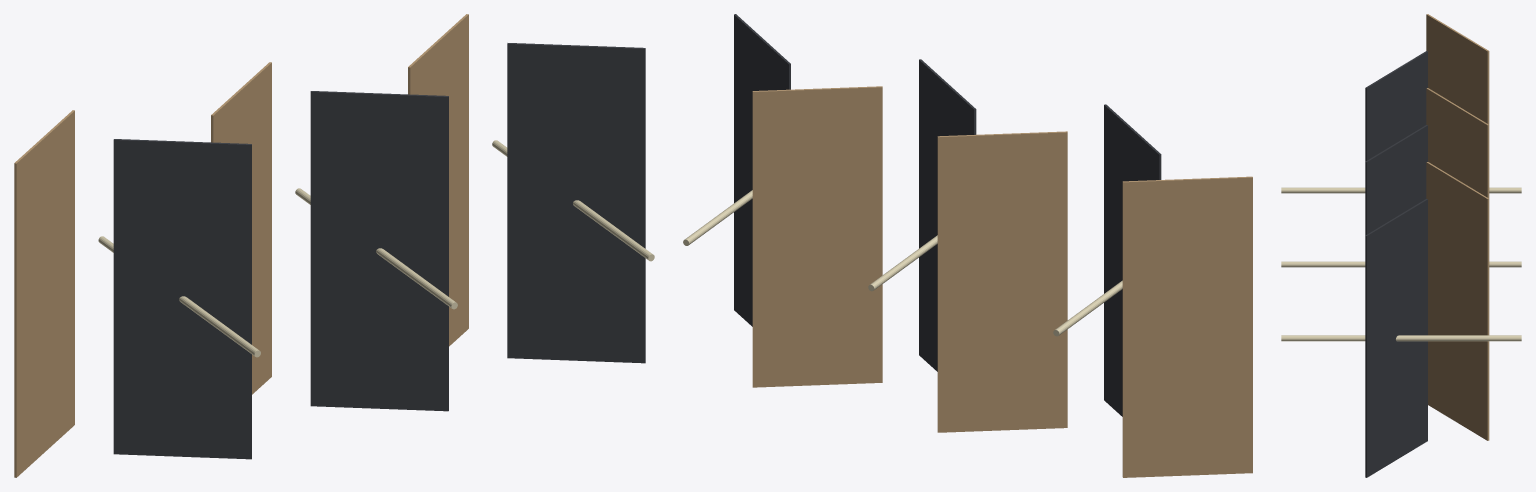
The model's file is tess_lumen_screen.obj.
The picture shows the model from 3 angles, left to right: view 1: azimuth 30°, elevation 25°; view 2: azimuth 150°, elevation 25°; view 3: azimuth 270°, elevation 25°; orthographic projection. The views are drawn at different scales.
Parts seen in each view (by area): view 1: geometry_1, geometry_4, geometry_7, geometry_0, geometry_6, geometry_3, geometry_2, geometry_8, geometry_5; view 2: geometry_0, geometry_6, geometry_3, geometry_1, geometry_4, geometry_7, geometry_8, geometry_5, geometry_2; view 3: geometry_7, geometry_6, geometry_0, geometry_3, geometry_1, geometry_4, geometry_8, geometry_2, geometry_5.
Boxes of the visible parts, <box> form: geometry_1: <box>113,139,251,459</box>; geometry_4: <box>310,91,448,411</box>; geometry_7: <box>507,43,645,363</box>; geometry_0: <box>14,110,74,477</box>; geometry_6: <box>408,14,468,346</box>; geometry_3: <box>211,62,271,394</box>; geometry_2: <box>98,236,260,357</box>; geometry_8: <box>492,140,654,261</box>; geometry_5: <box>295,188,457,309</box>; geometry_0: <box>1122,176,1252,477</box>; geometry_6: <box>752,86,882,387</box>; geometry_3: <box>937,131,1067,432</box>; geometry_1: <box>1104,104,1161,416</box>; geometry_4: <box>919,59,976,371</box>; geometry_7: <box>734,14,790,326</box>; geometry_8: <box>683,190,752,245</box>; geometry_5: <box>868,235,937,291</box>; geometry_2: <box>1053,280,1122,336</box>; geometry_7: <box>1365,199,1427,477</box>; geometry_6: <box>1426,162,1489,440</box>; geometry_0: <box>1426,14,1489,124</box>; geometry_3: <box>1426,88,1489,198</box>; geometry_1: <box>1365,51,1427,161</box>; geometry_4: <box>1365,125,1427,235</box>; geometry_8: <box>1281,335,1521,341</box>; geometry_2: <box>1281,187,1521,193</box>; geometry_5: <box>1281,261,1521,267</box>.
Bounding box in the file's own units: 1.08 × 0.55 × 0.495.
